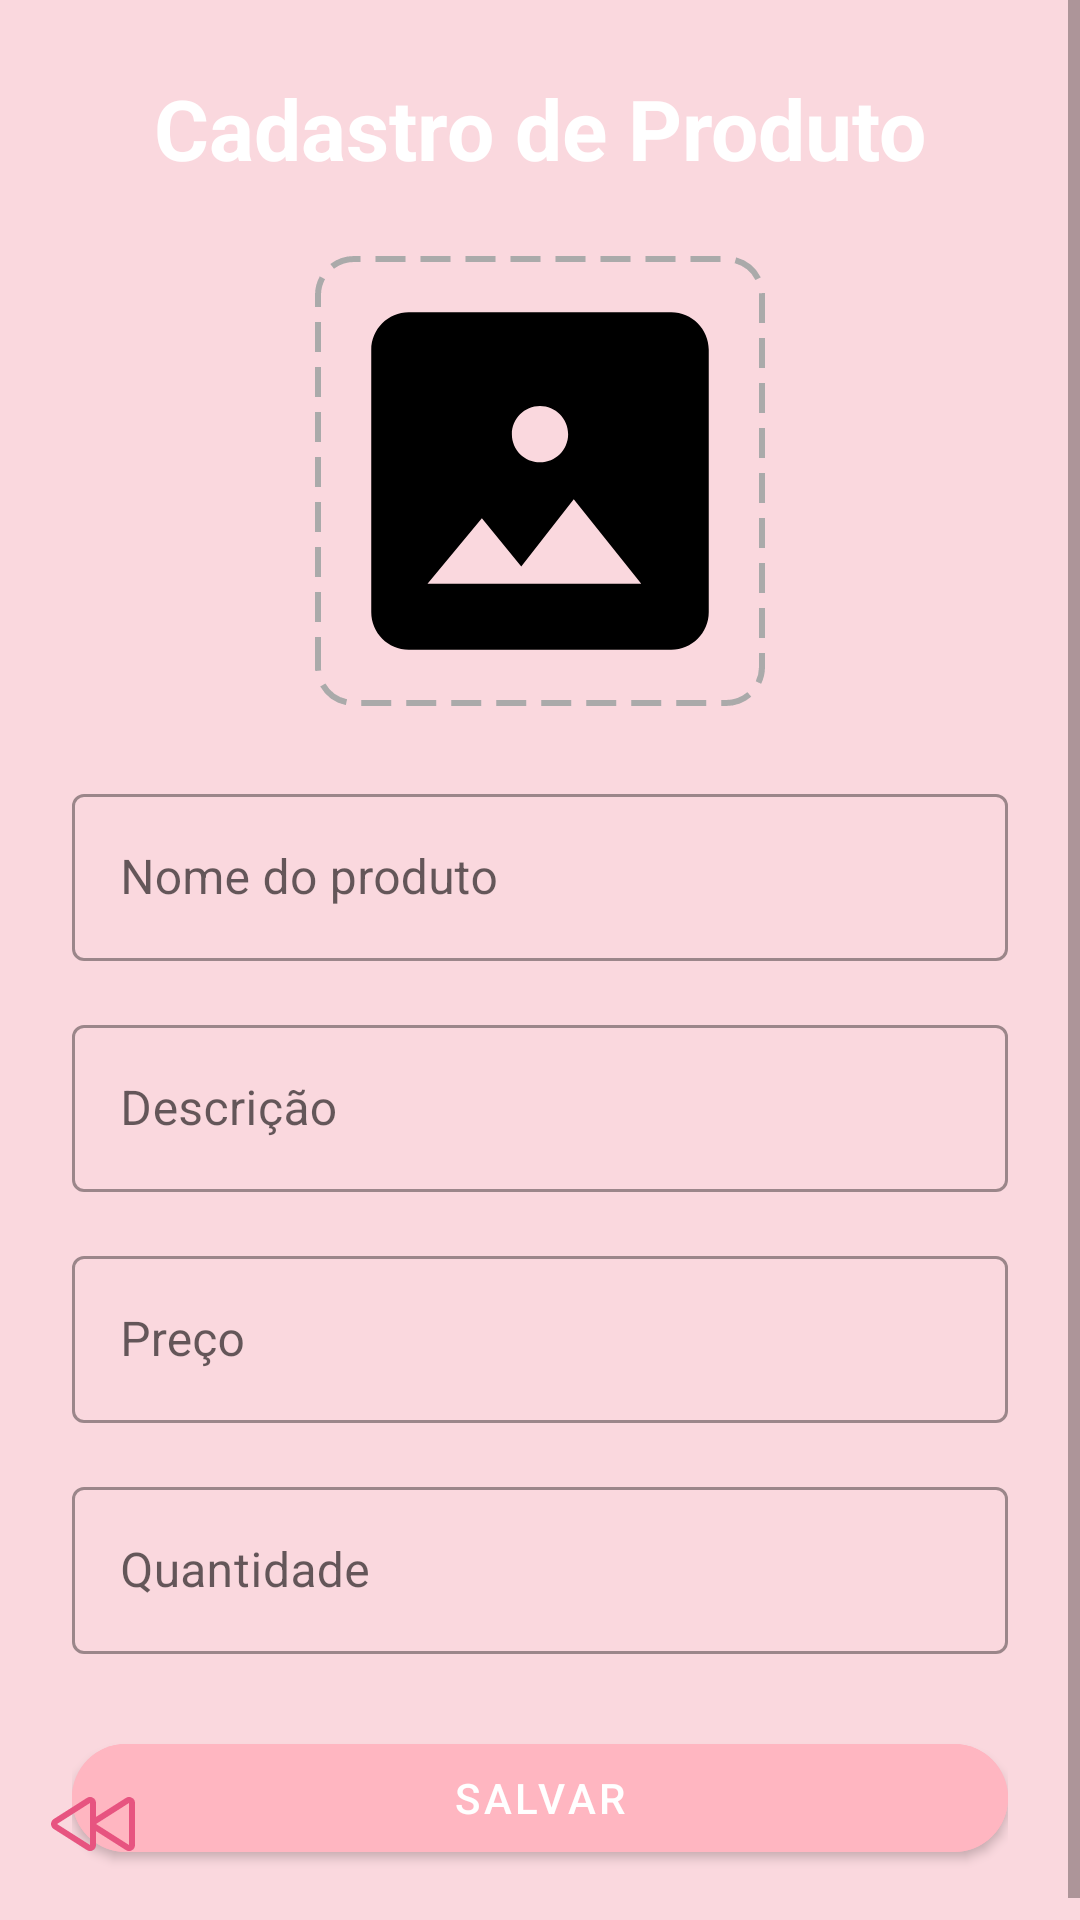

Where icons sit on this 1080w x 1920h app screen, as BBox(x1, y1, x2, y2):
Voltar: BBox(51, 1776, 144, 1858)
